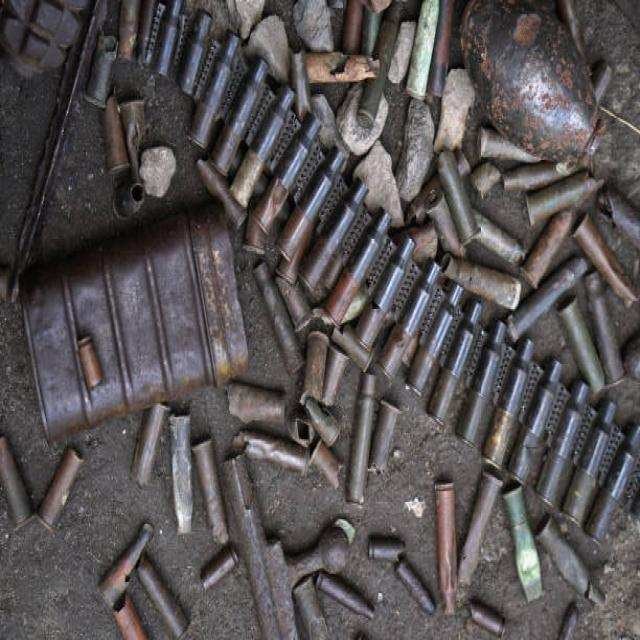grenade: (458, 1, 608, 172)
